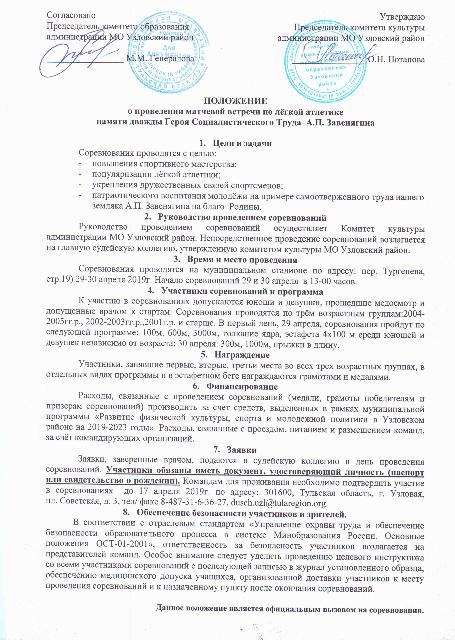stamp: (125, 12, 212, 96), (286, 19, 366, 102)
